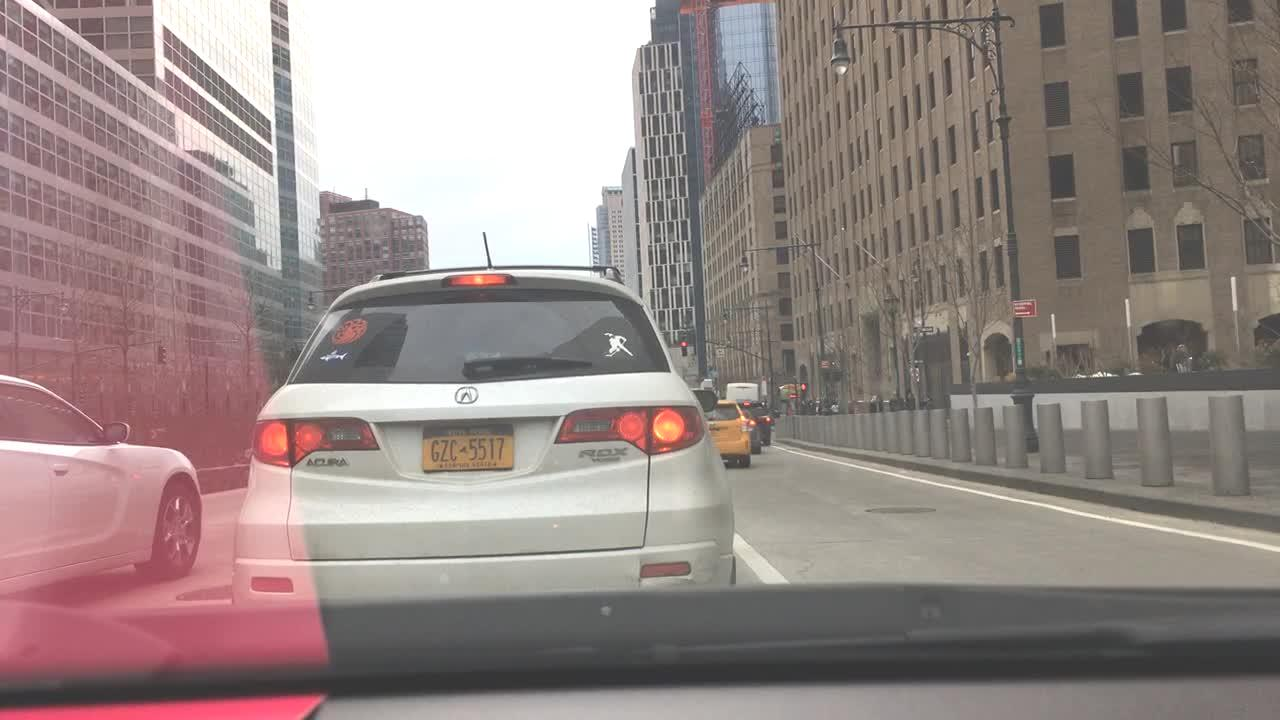acura: (453, 382, 480, 408)
